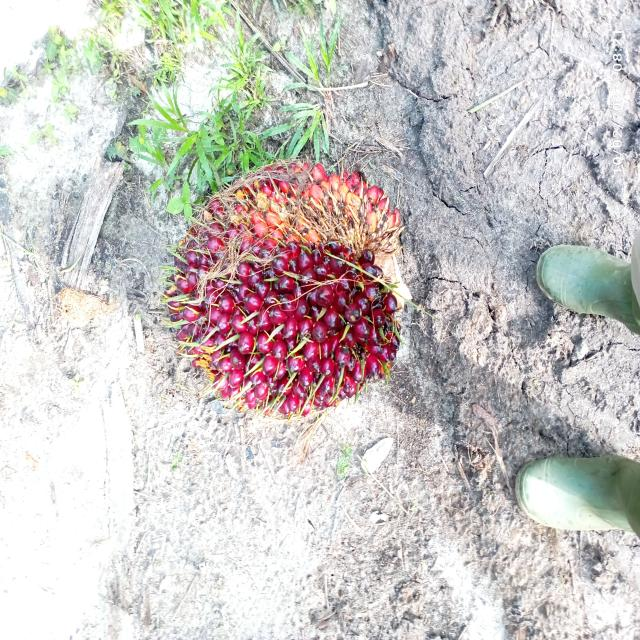fraksi 3: (160, 114, 432, 434)
